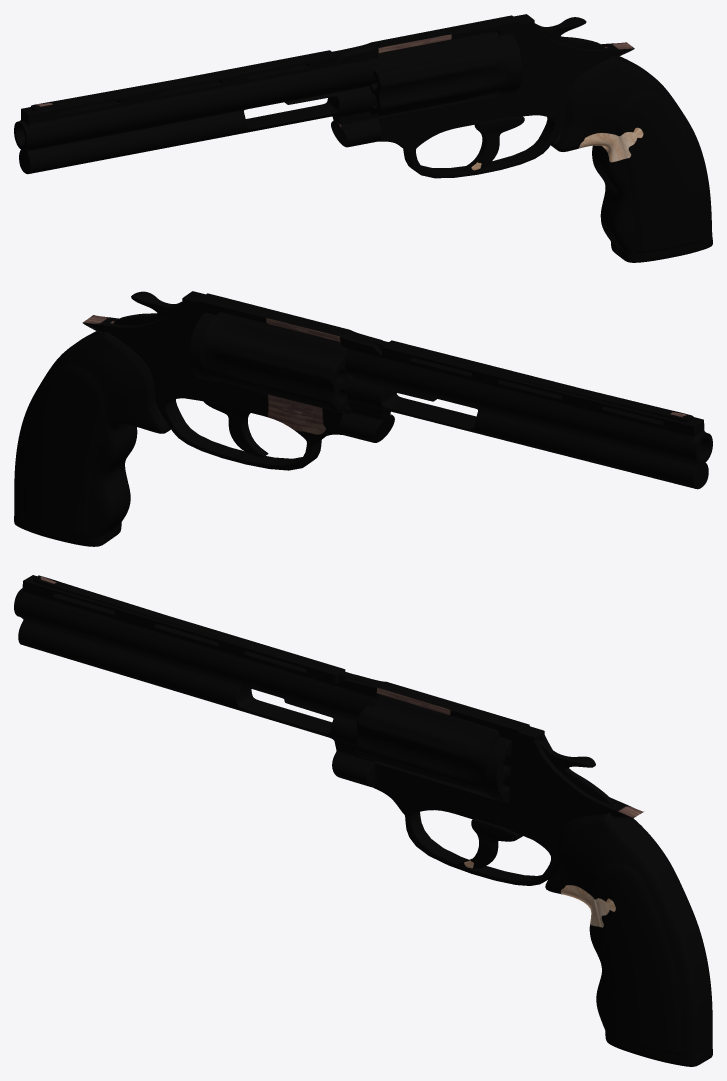
File: Pirates_Revolver.fbx
3 views of the same model, one above another, from view 1: azimuth 30°, elevation 25°; view 2: azimuth 150°, elevation 25°; view 3: azimuth 330°, elevation 25° (orthographic). The views are drawn at different scales.
Visible parts, largest first — view 1: Gun.001, Gun Handle.001, Revolver.001, Trigger.001; view 2: Gun.001, Gun Handle.001, Revolver.001, Trigger.001; view 3: Gun.001, Gun Handle.001, Revolver.001, Trigger.001.
Boxes of the visible parts, x1,y1,x2,y2 form: Gun.001: (14,14,634,178); Gun Handle.001: (551,55,712,262); Revolver.001: (370,31,522,116); Trigger.001: (462,116,524,171); Gun.001: (82,291,712,489); Gun Handle.001: (14,331,170,546); Revolver.001: (188,312,353,413); Trigger.001: (203,401,268,457); Gun.001: (14,575,643,885); Gun Handle.001: (545,812,712,1066); Revolver.001: (355,694,511,802); Trigger.001: (458,818,522,868).
Bounding box in the file's own units: 50 × 19.7 × 6.23.
Materials: 3 (3 with a texture image).
